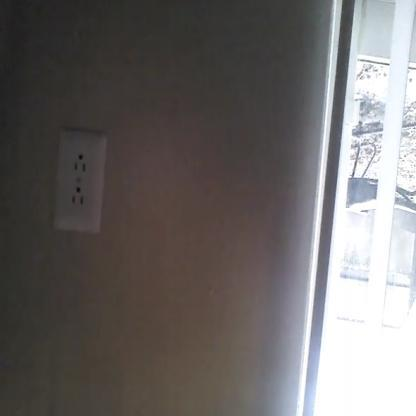OUTLET: (50, 130, 108, 235)
